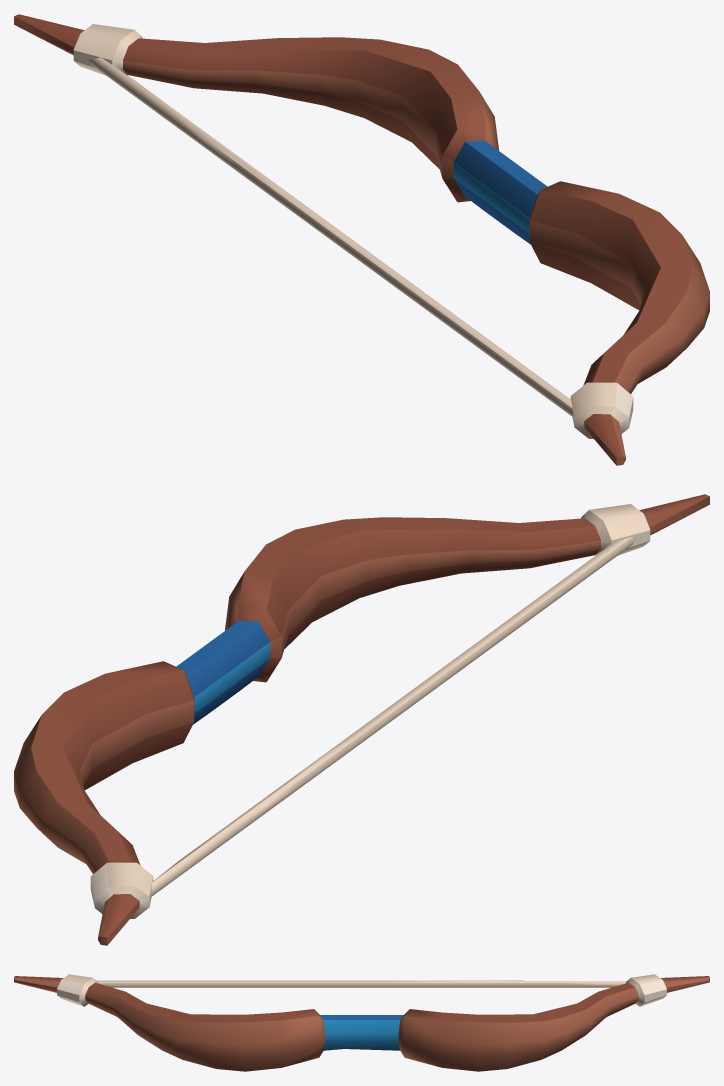
Rendered from bow_withString.glb.
The picture shows the model from 3 angles, top to bottom: view 1: azimuth 30°, elevation 25°; view 2: azimuth 150°, elevation 25°; view 3: azimuth 270°, elevation 25°; orthographic projection. The views are drawn at different scales.
Visible parts, largest first — view 1: bow_withString; view 2: bow_withString; view 3: bow_withString.
Part boxes in pixels (bbox=[...]): bow_withString: bbox=[14, 14, 709, 465]; bow_withString: bbox=[14, 494, 709, 945]; bow_withString: bbox=[14, 974, 709, 1071].
Size of the model in its own units: 0.4905 by 0.1557 by 1.98.
1 material, 1 textured.
